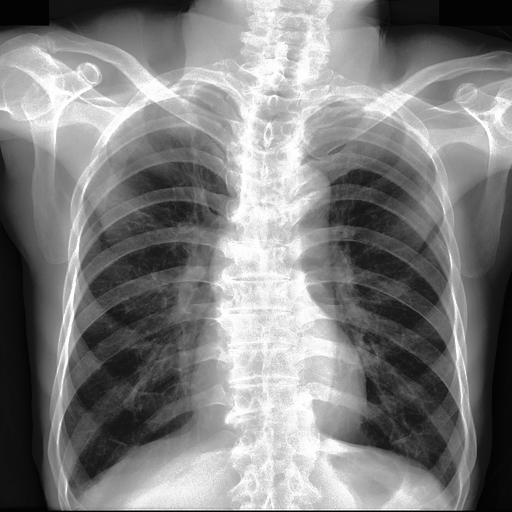Calcification: (61, 474, 90, 508)
Consolidation: (279, 165, 332, 226)
Pleural effusion: (61, 474, 90, 508)
Pneumothorax: (173, 131, 209, 193)
